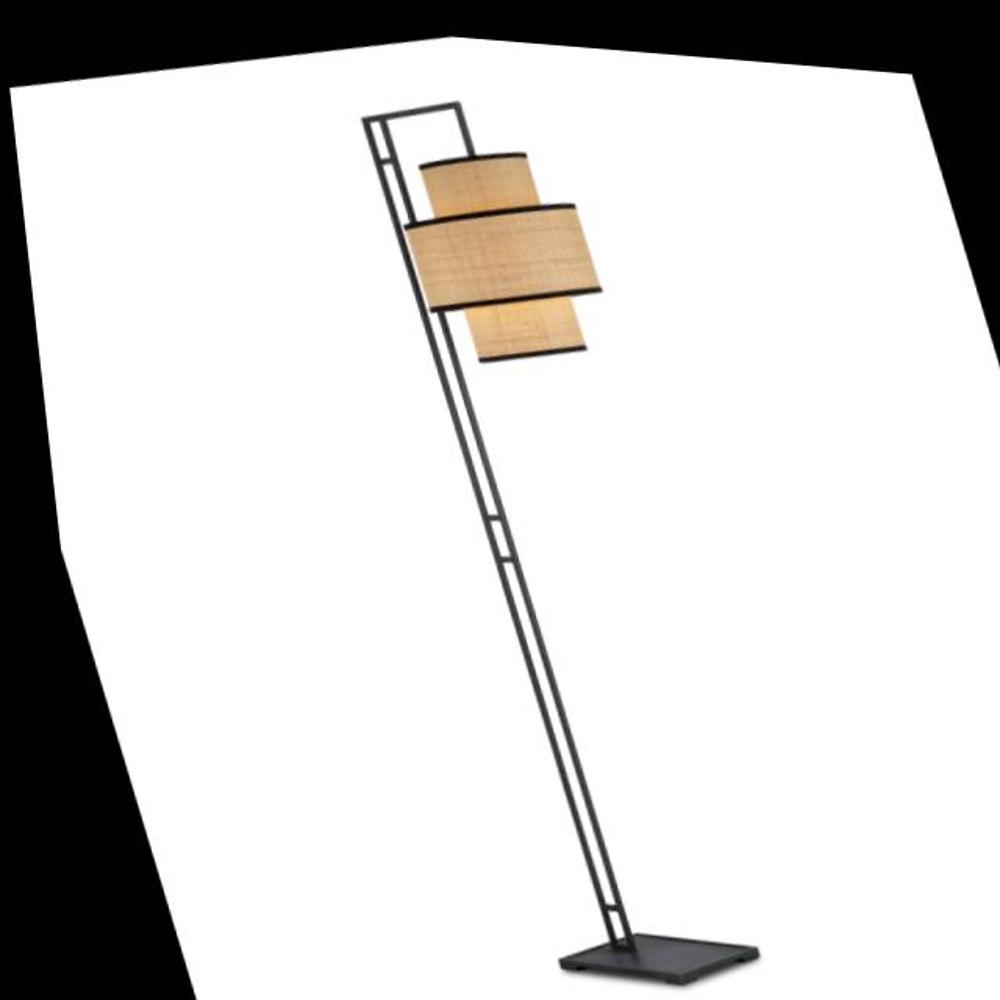shelf: (282, 41, 826, 1000)
